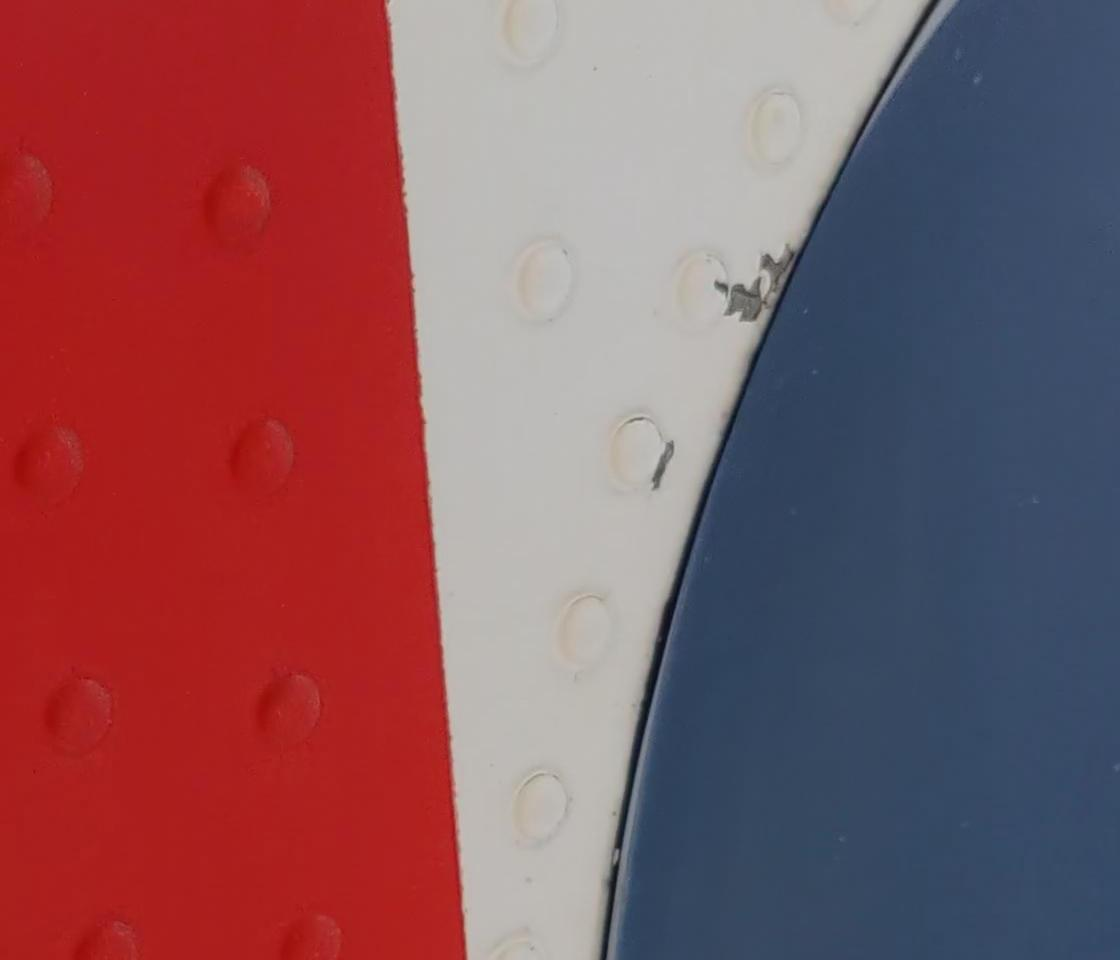paint_peel: (711, 238, 799, 325)
